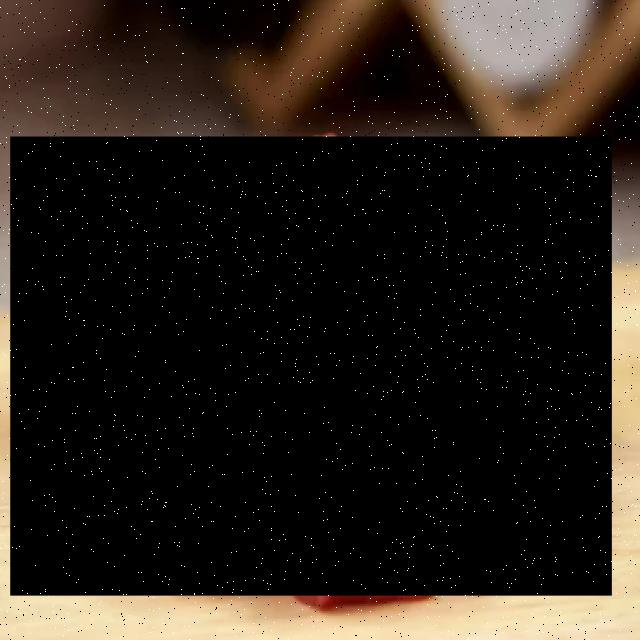Mutton: (11, 137, 613, 596)
